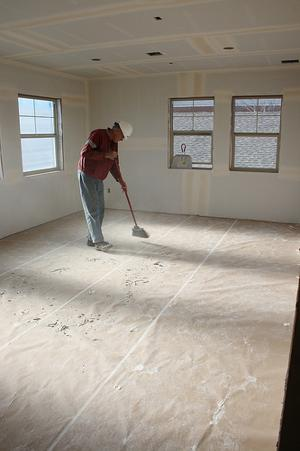person: (77, 120, 134, 252)
